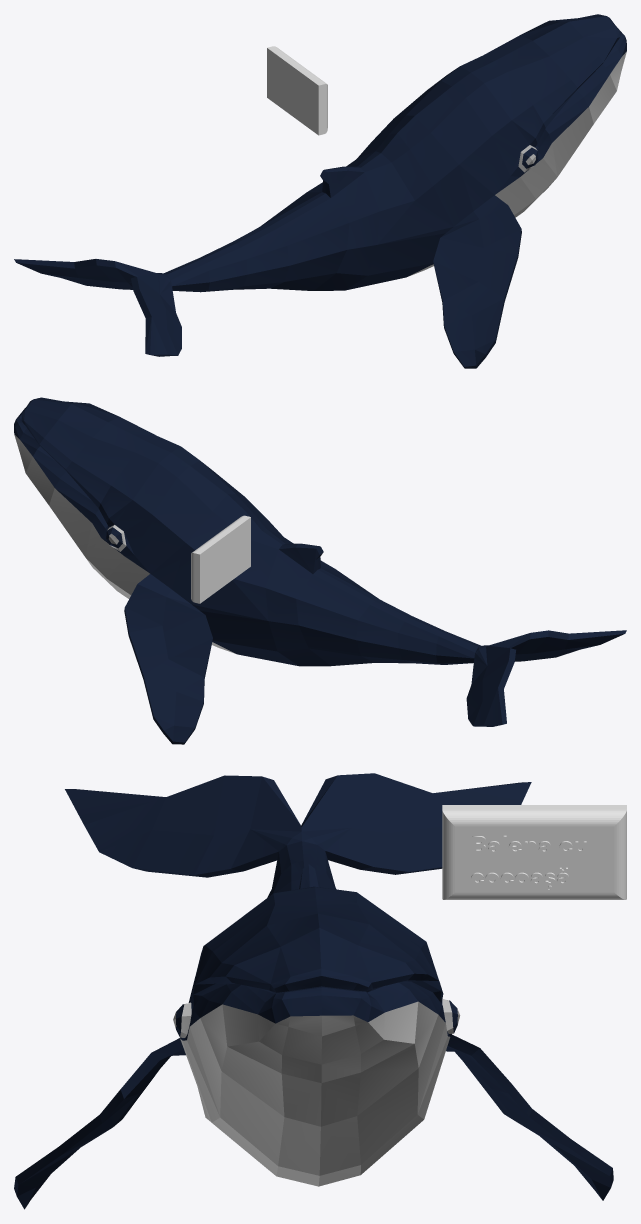
File: mare assets10.fbx
The picture shows the model from 3 angles, top to bottom: view 1: azimuth 30°, elevation 25°; view 2: azimuth 150°, elevation 25°; view 3: azimuth 270°, elevation 25°; orthographic projection. The views are drawn at different scales.
Parts seen in each view (by area): view 1: Whale.004, Cube.010; view 2: Whale.004, Cube.010; view 3: Whale.004, Cube.010, Text.010.
Part boxes in pixels (box(x1,y1,x2,y2)): Whale.004: box(14, 14, 626, 368); Cube.010: box(267, 46, 327, 135); Whale.004: box(14, 397, 626, 744); Cube.010: box(191, 515, 250, 603); Whale.004: box(14, 773, 613, 1209); Cube.010: box(442, 805, 626, 899); Text.010: box(471, 835, 586, 890).
Size of the model in its own units: 1030 by 439 by 561.
